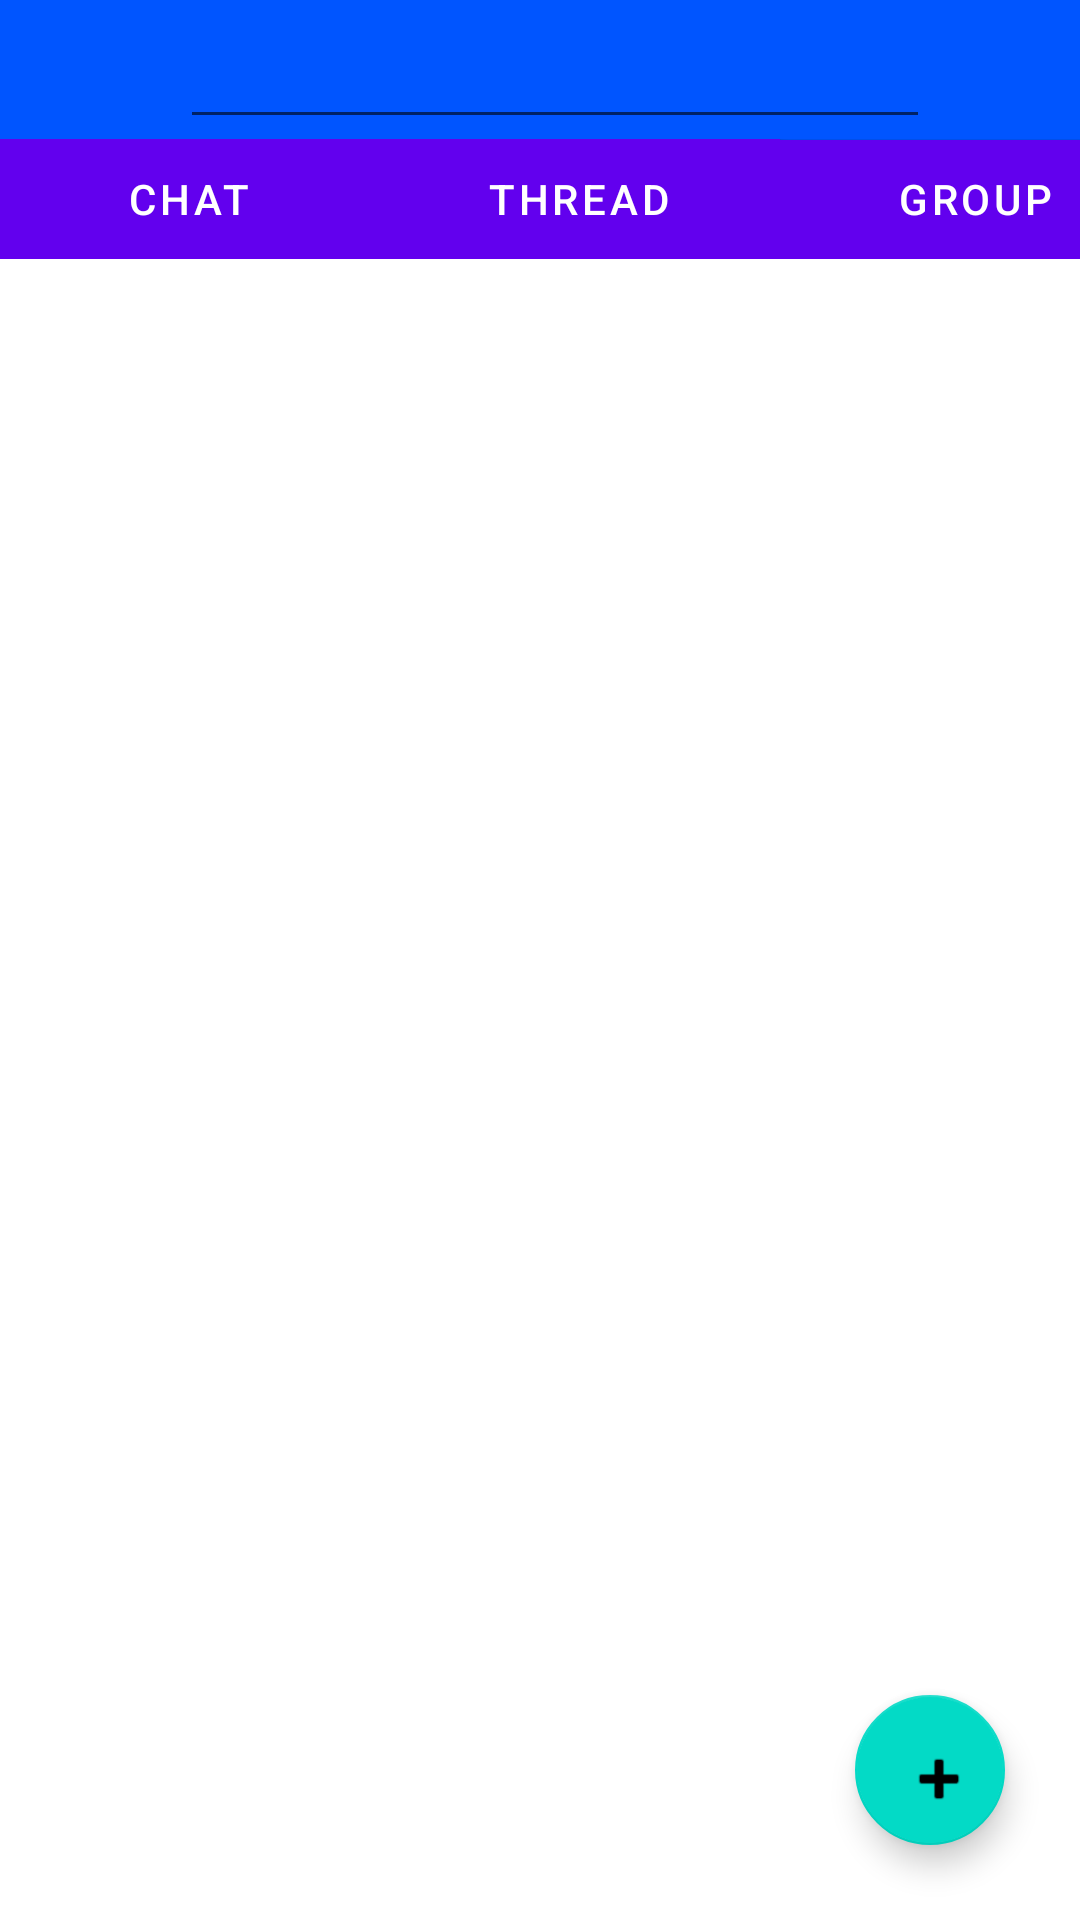

Named icons in this screenshot (1080 × 1920) and their bounding boxes, box=[x1, y1, x2, y2]:
add: box=[855, 1695, 1005, 1845]
